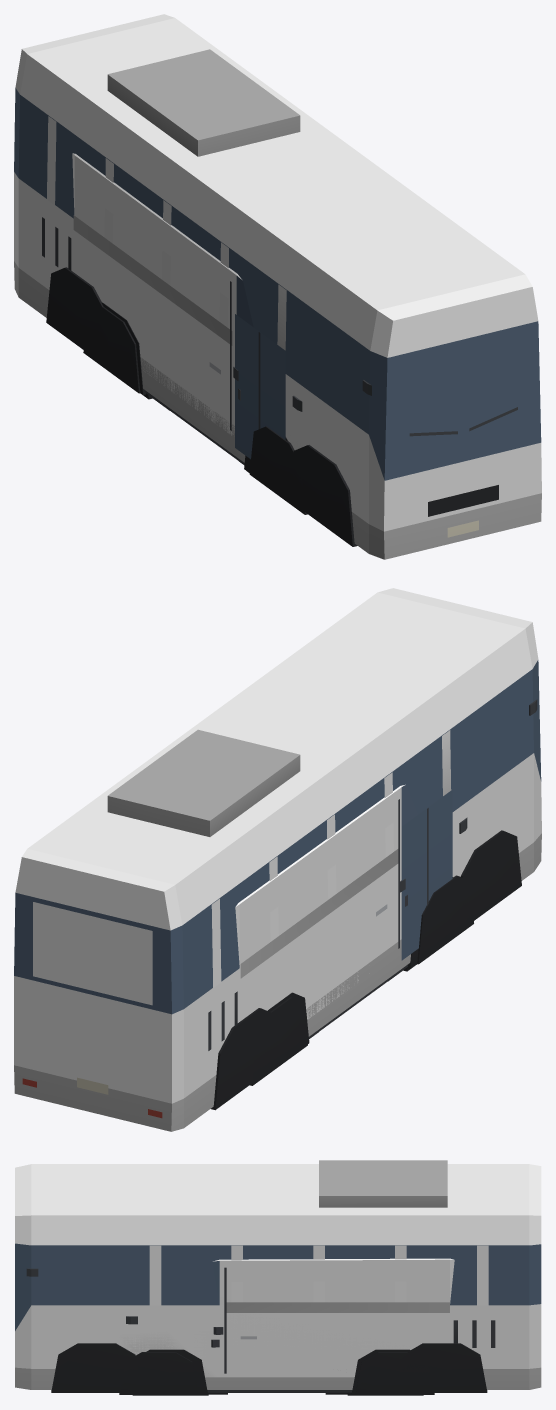
Rendered from fleet.glb.
The picture shows the model from 3 angles, top to bottom: view 1: azimuth 30°, elevation 25°; view 2: azimuth 150°, elevation 25°; view 3: azimuth 270°, elevation 25°; orthographic projection. The views are drawn at different scales.
Parts seen in each view (by area): view 1: Bus, Van; view 2: Bus, Van; view 3: Bus, Van, Pickup, Sedan.
Boxes of the visible parts, left/top/right/bottom form: Bus: left=14, top=14, right=541, bottom=559; Van: left=72, top=153, right=307, bottom=514; Bus: left=14, top=588, right=541, bottom=1131; Van: left=235, top=784, right=473, bottom=1085; Bus: left=15, top=1160, right=541, bottom=1392; Van: left=119, top=1258, right=454, bottom=1394; Pickup: left=146, top=1327, right=410, bottom=1394; Sedan: left=132, top=1339, right=423, bottom=1395.
Size of the model in its own units: 1.19 by 1.8 by 4.52.
